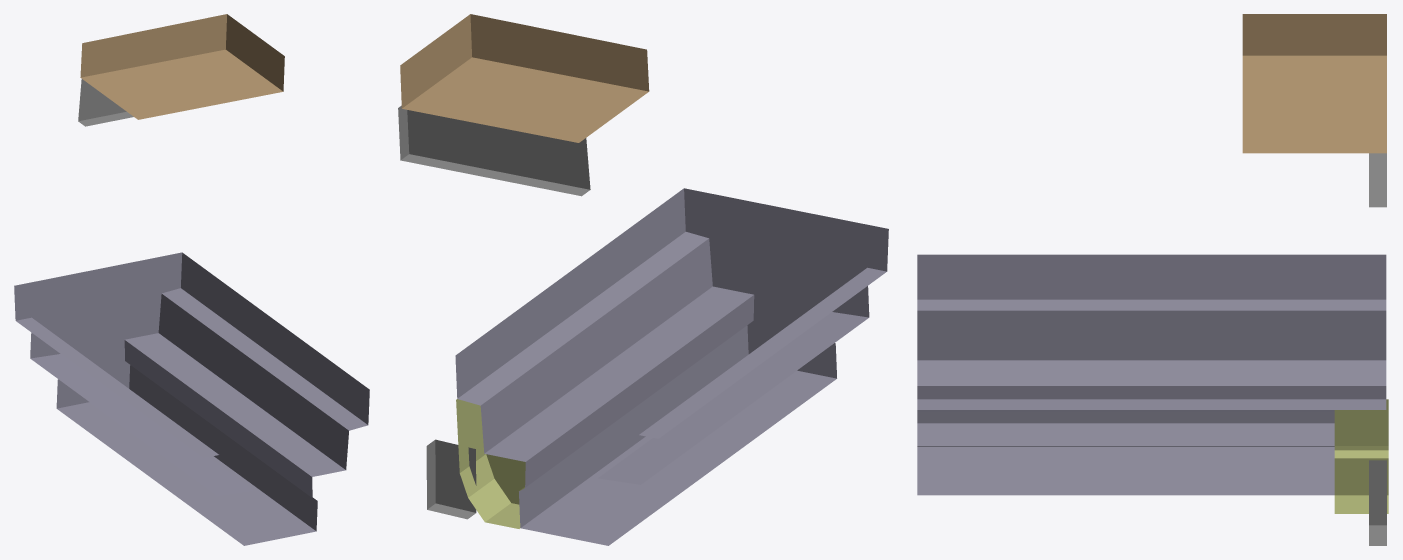
3 renders of one model, left to right at view 1: azimuth 30°, elevation 25°; view 2: azimuth 150°, elevation 25°; view 3: azimuth 270°, elevation 25°, orthographic. The views are drawn at different scales.
Visible parts, largest first — view 1: 0_3_2_0_1_0_3; view 2: 0_3_2_0_1_0_3; view 3: 0_3_2_0_1_0_3.
Boxes of the visible parts, x1,y1,x2,y2 form: 0_3_2_0_1_0_3: [14, 14, 369, 545]; 0_3_2_0_1_0_3: [398, 14, 888, 545]; 0_3_2_0_1_0_3: [917, 14, 1388, 545].
Bounding box in the file's own units: 51.61 × 83.83 × 78.4.
